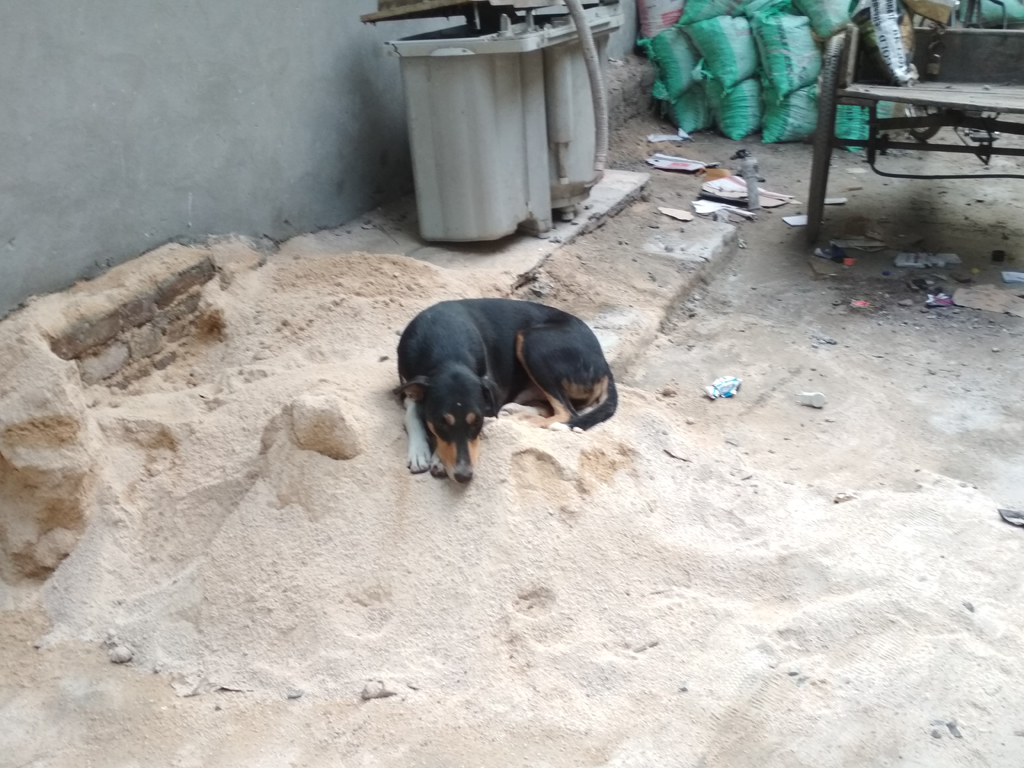dog: (398, 297, 618, 482)
